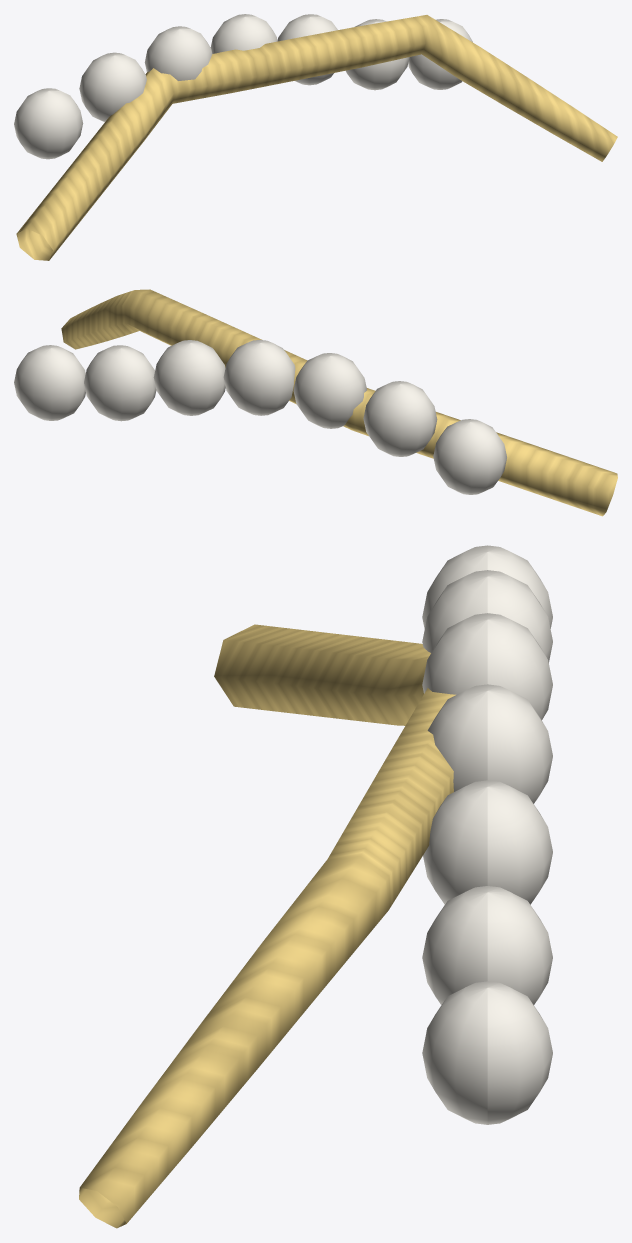
Rendered from acc_pearl_hairpin.glb.
The picture shows the model from 3 angles, top to bottom: view 1: azimuth 30°, elevation 25°; view 2: azimuth 150°, elevation 25°; view 3: azimuth 270°, elevation 25°; orthographic projection. The views are drawn at different scales.
Visible parts, largest first — view 1: acc_pearl_hairpin; view 2: acc_pearl_hairpin; view 3: acc_pearl_hairpin.
Boxes of the visible parts, x1=… form: acc_pearl_hairpin: x1=14, y1=14, x2=617, y2=260; acc_pearl_hairpin: x1=14, y1=289, x2=617, y2=516; acc_pearl_hairpin: x1=79, y1=545, x2=552, y2=1228.
Bounding box in the file's own units: 0.7679 × 0.1878 × 0.2826.
2 materials, 2 textured.
